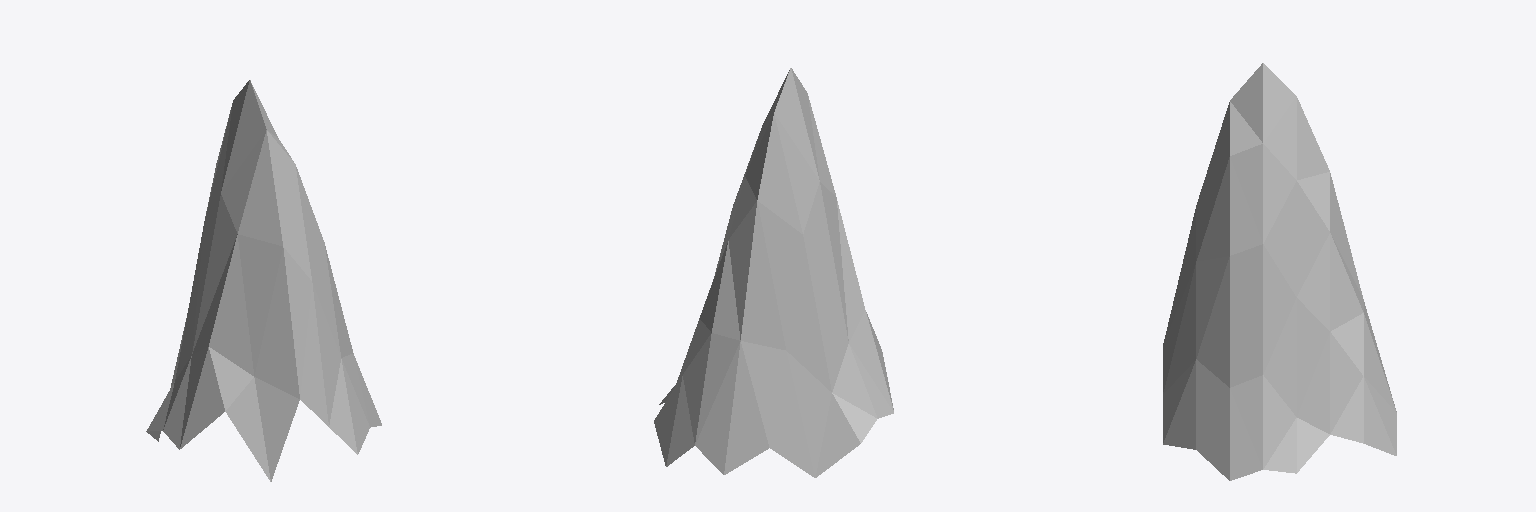
Rendered from tree_24.obj.
The picture shows the model from 3 angles: view 1: azimuth 30°, elevation 25°; view 2: azimuth 150°, elevation 25°; view 3: azimuth 270°, elevation 25°; orthographic projection.
Parts seen in each view (by area): view 1: tree_24; view 2: tree_24; view 3: tree_24.
Part boxes in pixels (x1,y1,x2,y2): tree_24: (146,80,381,481); tree_24: (654,68,893,477); tree_24: (1163,63,1396,480).
Size of the model in its own units: 7 by 12.3 by 7.